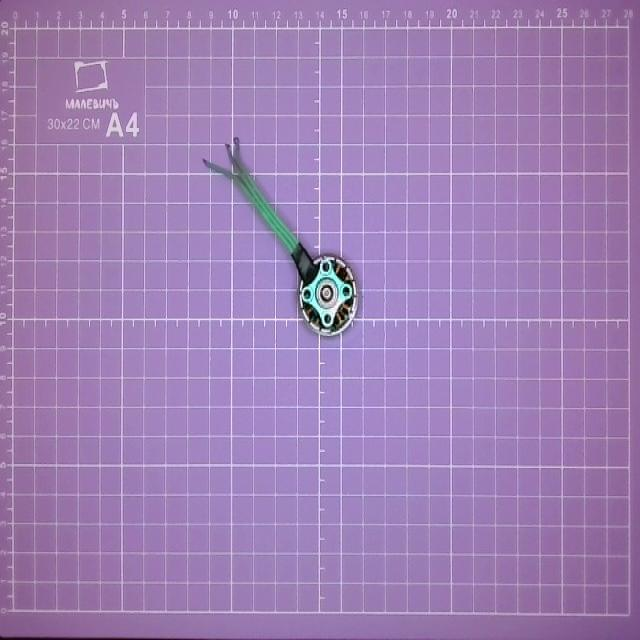motor: (201, 137, 361, 338)
